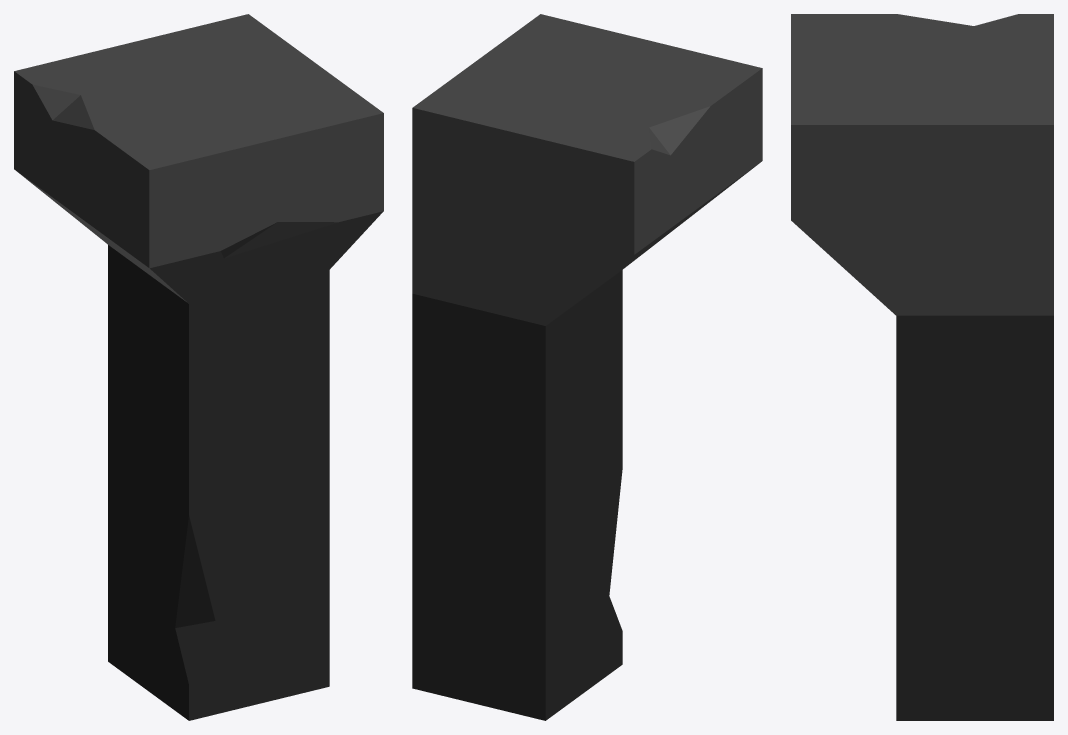
Rendered from SW_ENV_RailTunnel_Wall_Ledge_A_Crnr_01.fbx.
3 renders of one model, left to right at view 1: azimuth 30°, elevation 25°; view 2: azimuth 150°, elevation 25°; view 3: azimuth 270°, elevation 25°, orthographic. The views are drawn at different scales.
Visible parts, largest first — view 1: SW_ENV_RailTunnel_Wall_Ledge_A_Crnr_01; view 2: SW_ENV_RailTunnel_Wall_Ledge_A_Crnr_01; view 3: SW_ENV_RailTunnel_Wall_Ledge_A_Crnr_01.
Boxes of the visible parts, left/top/right/bottom form: SW_ENV_RailTunnel_Wall_Ledge_A_Crnr_01: left=14, top=14, right=383, bottom=720; SW_ENV_RailTunnel_Wall_Ledge_A_Crnr_01: left=412, top=14, right=762, bottom=720; SW_ENV_RailTunnel_Wall_Ledge_A_Crnr_01: left=791, top=14, right=1053, bottom=720.
Bounding box in the file's own units: 0.5 × 1.25 × 0.5.
